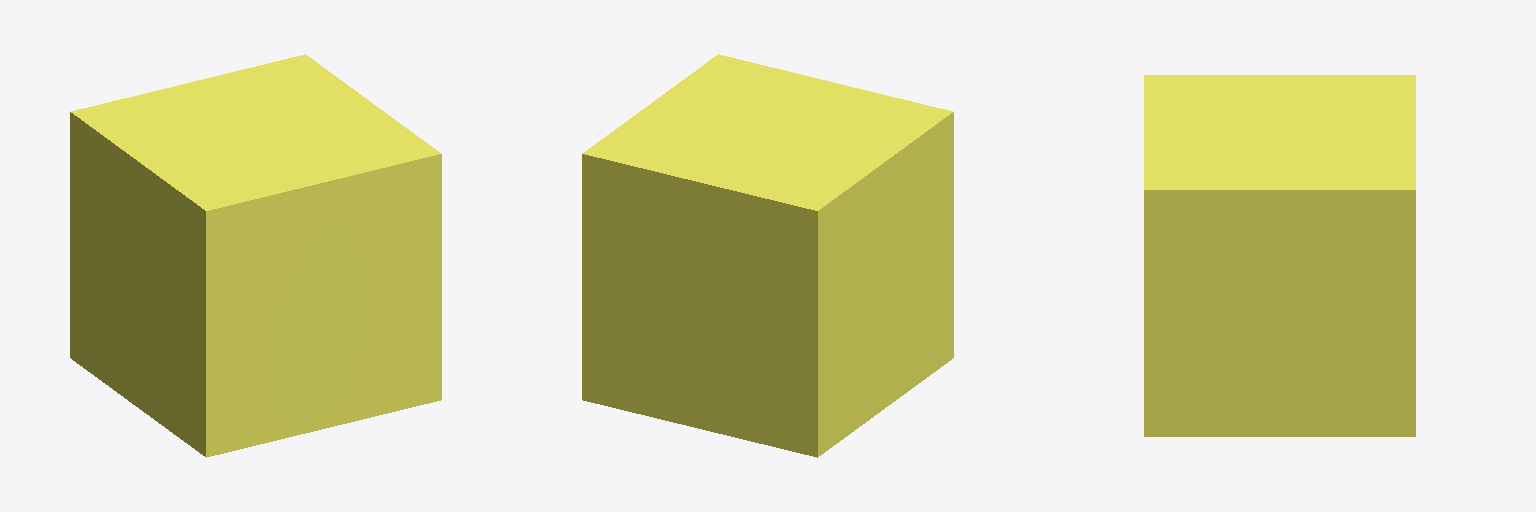
3 renders of one model, left to right at view 1: azimuth 30°, elevation 25°; view 2: azimuth 150°, elevation 25°; view 3: azimuth 270°, elevation 25°, orthographic.
Visible parts, largest first — view 1: Cube; view 2: Cube; view 3: Cube.
Part boxes in pixels (bbox=[...]): Cube: bbox=[70, 54, 441, 457]; Cube: bbox=[582, 54, 953, 457]; Cube: bbox=[1144, 75, 1415, 436].
Size of the model in its own units: 2 by 2 by 2.
Materials: 1 (1 with a texture image).